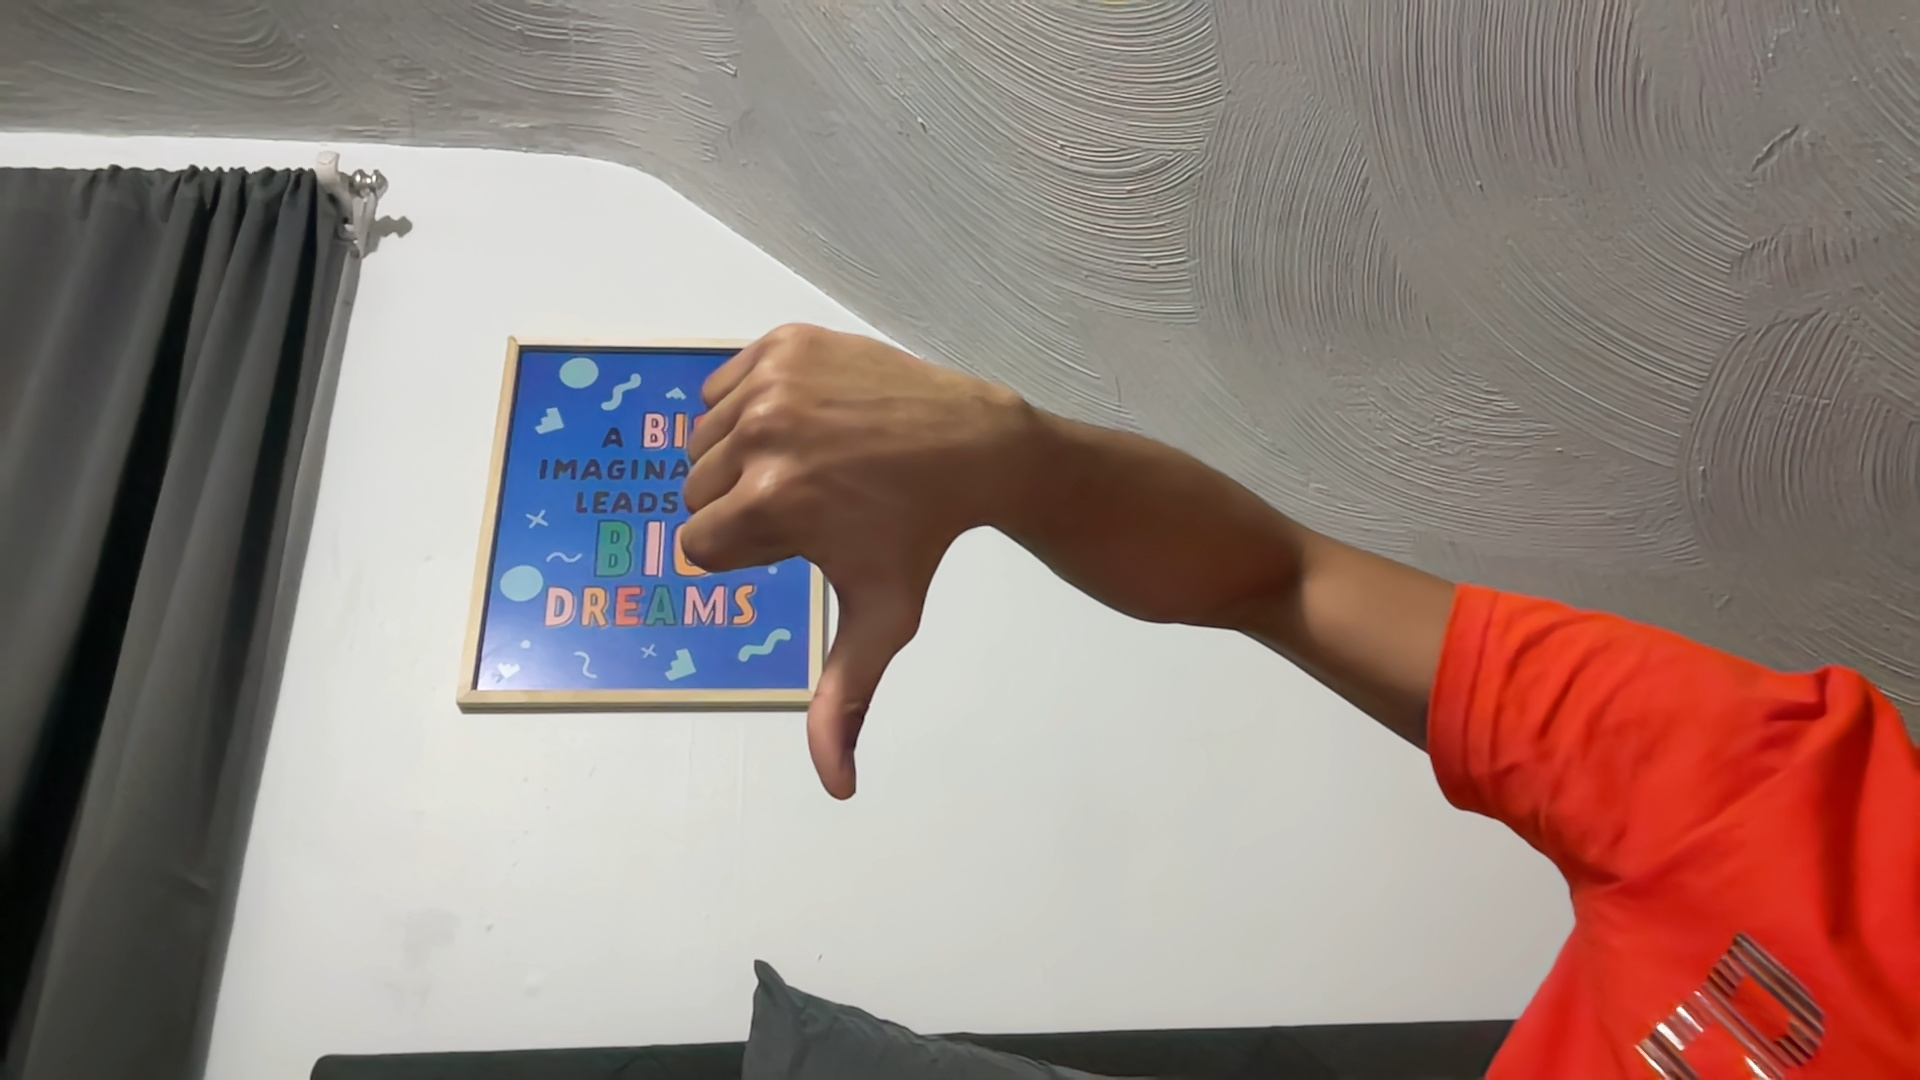ThumbsDown: (680, 318, 1011, 808)
